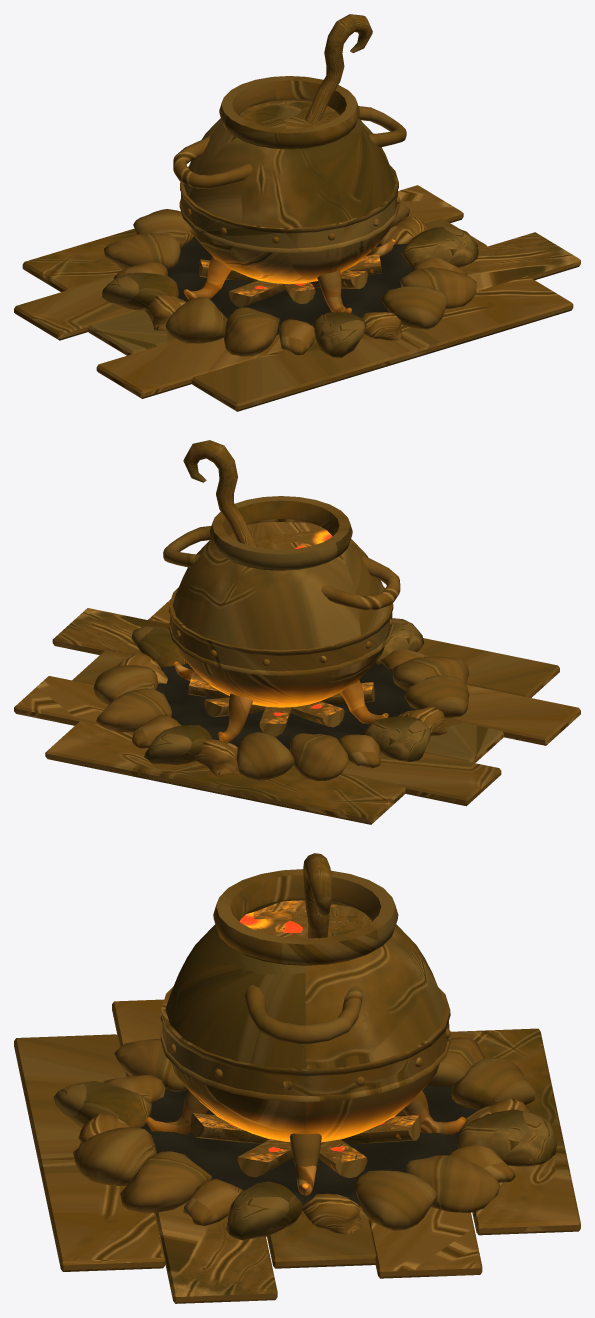
The model's file is cauldron scene.fbx.
3 views of the same model, one above another, from view 1: azimuth 30°, elevation 25°; view 2: azimuth 150°, elevation 25°; view 3: azimuth 270°, elevation 25° (orthographic). The views are drawn at different scales.
Visible parts, largest first — view 1: Sphere005, Box019, Box016, Box017, Cylinder003, Box015, Cylinder002, Cylinder001, Box014, Box023, Box025, Box024; view 2: Sphere005, Box019, Box015, Box014, Box016, Cylinder003, Cylinder002, Cylinder001, Box017, Box022, Box021, Box028 (+1 smaller); view 3: Sphere005, Box019, Box014, Box017, Cylinder003, Box016, Box015, Cylinder001, Cylinder002, Box028, Box026, Box025 (+1 smaller).
Boxes of the visible parts, bbox=[...] form: Sphere005: bbox=[173, 76, 406, 313]; Box019: bbox=[14, 185, 580, 411]; Box016: bbox=[144, 293, 366, 357]; Box017: bbox=[360, 227, 478, 340]; Cylinder003: bbox=[167, 236, 414, 334]; Box015: bbox=[102, 209, 194, 310]; Cylinder002: bbox=[305, 14, 372, 122]; Cylinder001: bbox=[239, 100, 339, 128]; Box014: bbox=[380, 203, 428, 244]; Box023: bbox=[229, 280, 285, 307]; Box025: bbox=[311, 270, 367, 288]; Box024: bbox=[283, 282, 315, 303]; Sphere005: bbox=[163, 496, 400, 741]; Box019: bbox=[14, 599, 580, 824]; Box015: bbox=[195, 716, 431, 781]; Box014: bbox=[93, 653, 211, 764]; Box016: bbox=[374, 618, 469, 735]; Cylinder003: bbox=[156, 663, 416, 751]; Cylinder002: bbox=[183, 440, 256, 546]; Cylinder001: bbox=[230, 522, 332, 549]; Box017: bbox=[131, 626, 187, 667]; Box022: bbox=[291, 701, 344, 727]; Box021: bbox=[259, 706, 291, 736]; Box028: bbox=[204, 697, 265, 717]; Sphere005: bbox=[145, 869, 466, 1195]; Box019: bbox=[14, 999, 580, 1303]; Box014: bbox=[301, 1109, 556, 1234]; Box017: bbox=[73, 1112, 302, 1240]; Cylinder003: bbox=[140, 1086, 478, 1205]; Box016: bbox=[53, 1039, 187, 1127]; Box015: bbox=[426, 1037, 535, 1129]; Cylinder001: bbox=[239, 900, 371, 938]; Cylinder002: bbox=[303, 853, 332, 938]; Box028: bbox=[341, 1115, 420, 1143]; Box026: bbox=[237, 1139, 292, 1177]; Box025: bbox=[190, 1113, 269, 1143].
Size of the model in its own units: 213 by 111 by 169.
